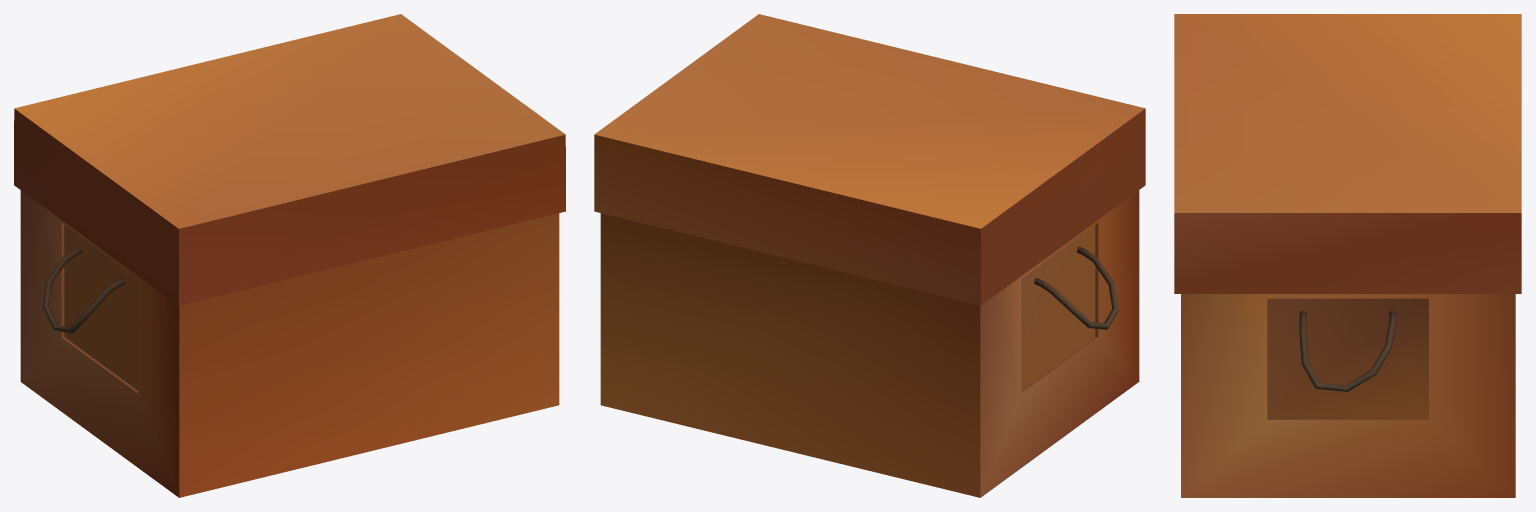
The picture shows the model from 3 angles, left to right: view 1: azimuth 30°, elevation 25°; view 2: azimuth 150°, elevation 25°; view 3: azimuth 270°, elevation 25°; orthographic projection. The views are drawn at different scales.
Visible parts, largest first — view 1: alt2.184; view 2: alt2.184; view 3: alt2.184.
Part boxes in pixels (x1,y1,x2,y2): alt2.184: [14, 14, 565, 497]; alt2.184: [594, 14, 1145, 497]; alt2.184: [1174, 14, 1521, 497].
Size of the model in its own units: 0.5 by 0.2743 by 0.3012.
